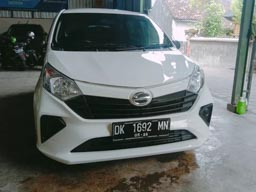plat: (109, 115, 173, 134)
